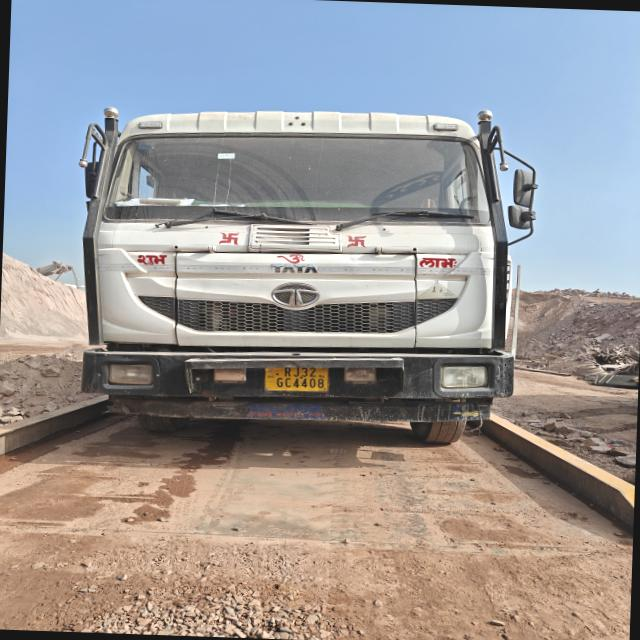license_plate: (265, 368, 328, 392)
